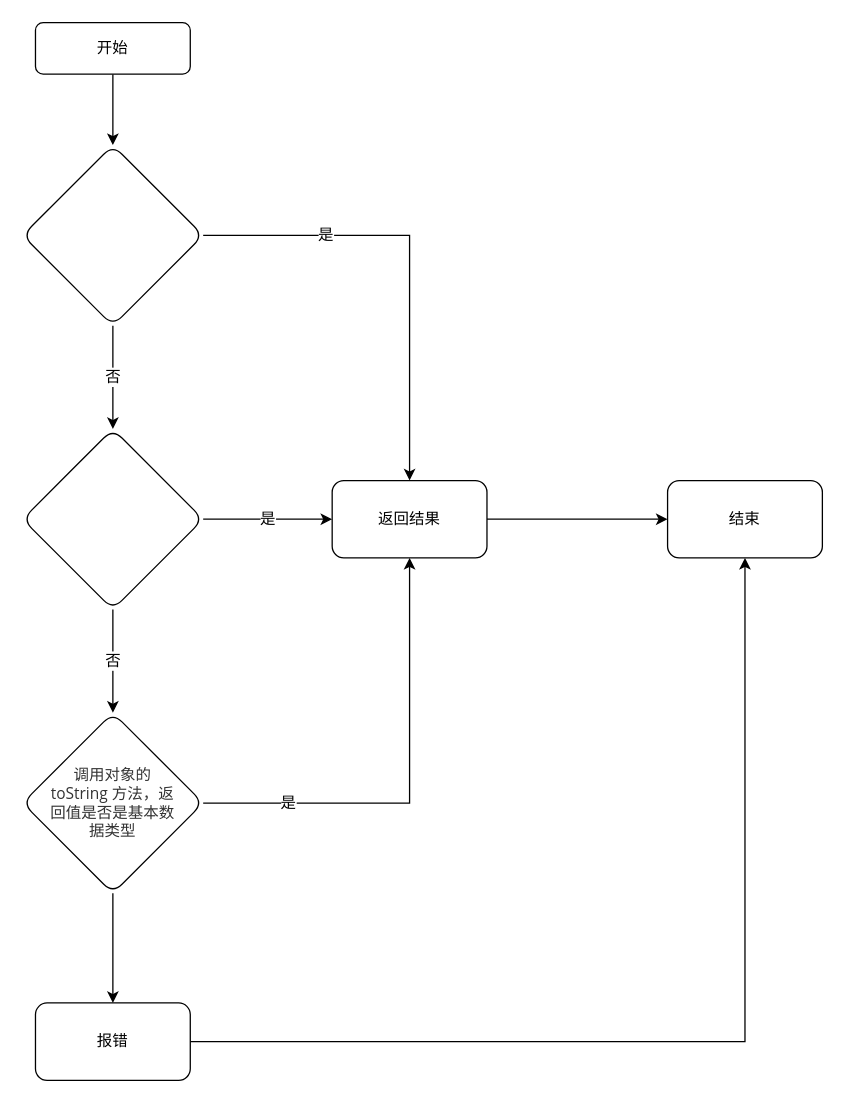
The diagram is 845 pixels wide and 1103 high, and some of its shapes have lost their labels. Here are the shapes that lost their labels. From the top down, the centre of each, then its label:
At (x=112, y=235): "调用对象的 [[ToPrimitive]] 方法， 返回值是否是基本数据类型".
At (x=112, y=519): "调用对象的 valueOf 方法， 返回值是否是基本数据类型".
